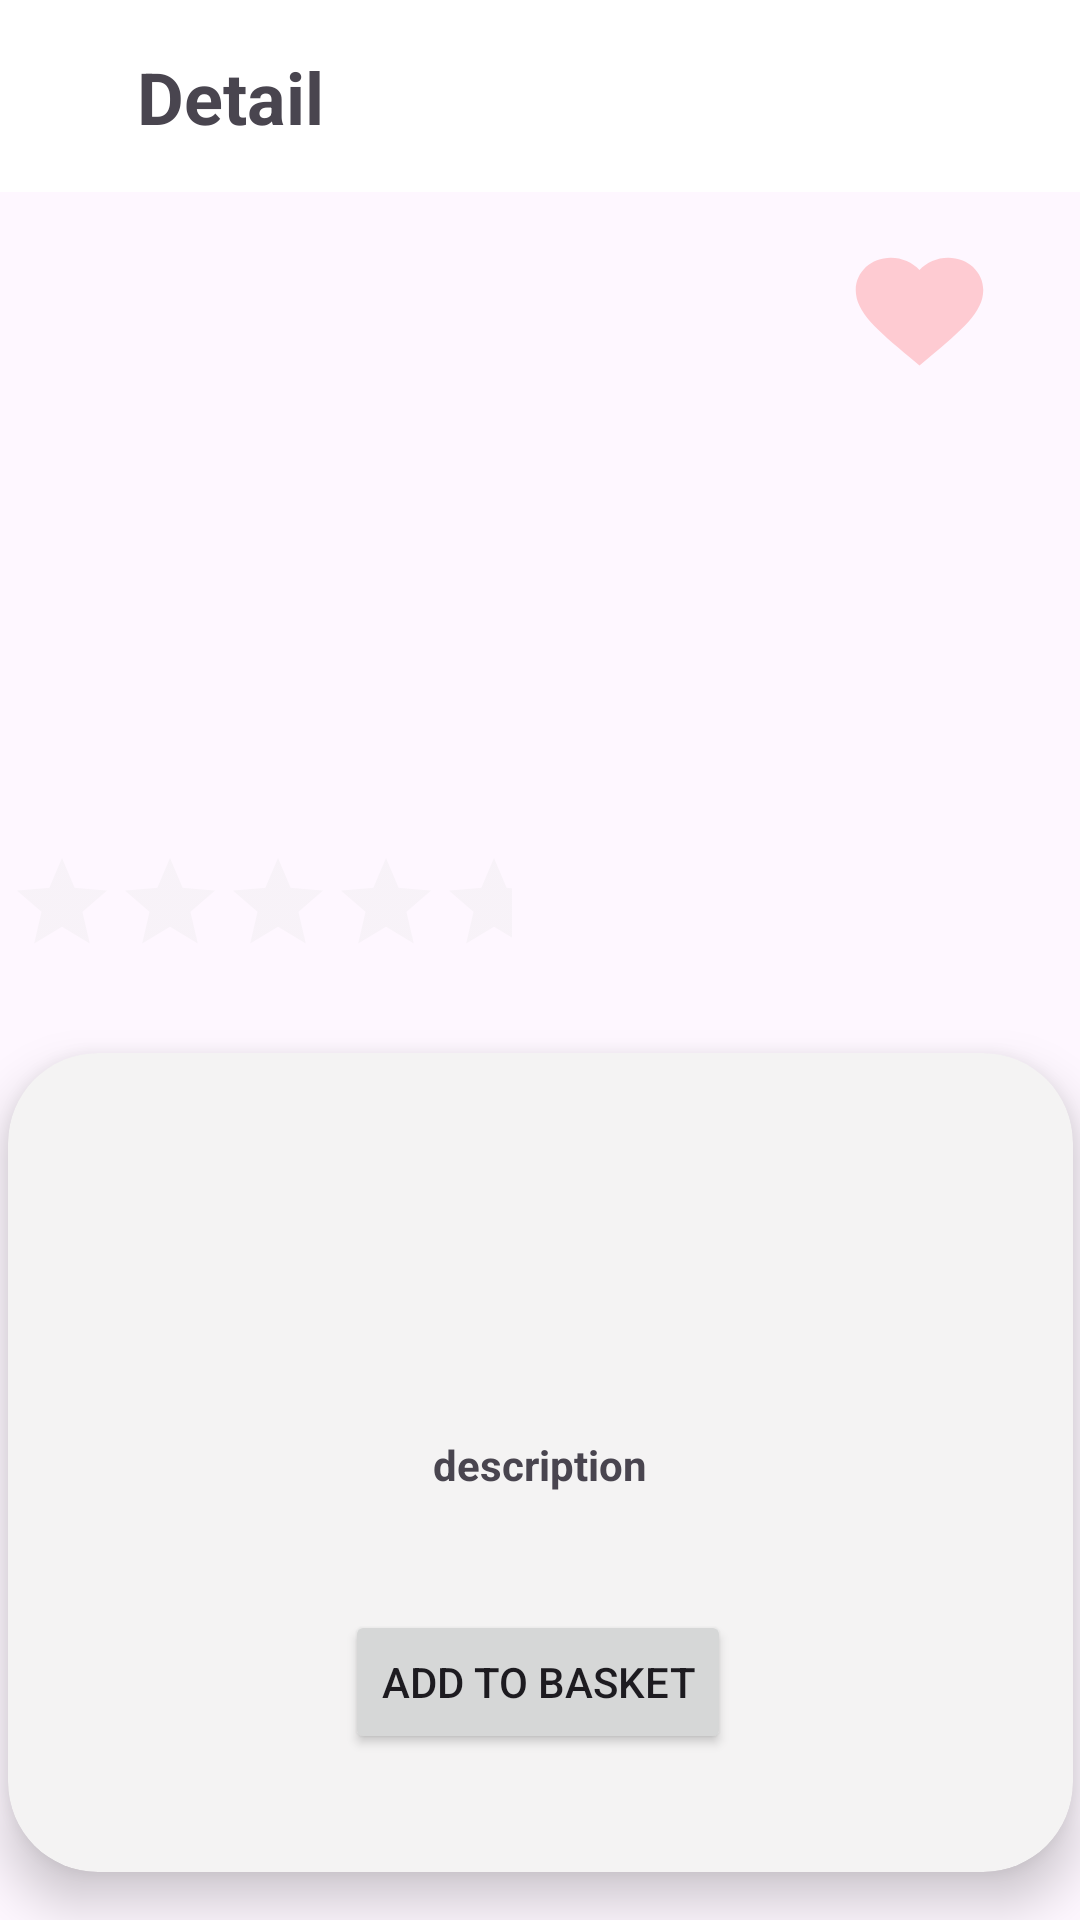

Icons on this 1080 x 1920 Android screen, each with the point to tap as (x,y):
favorite: (919,311)
